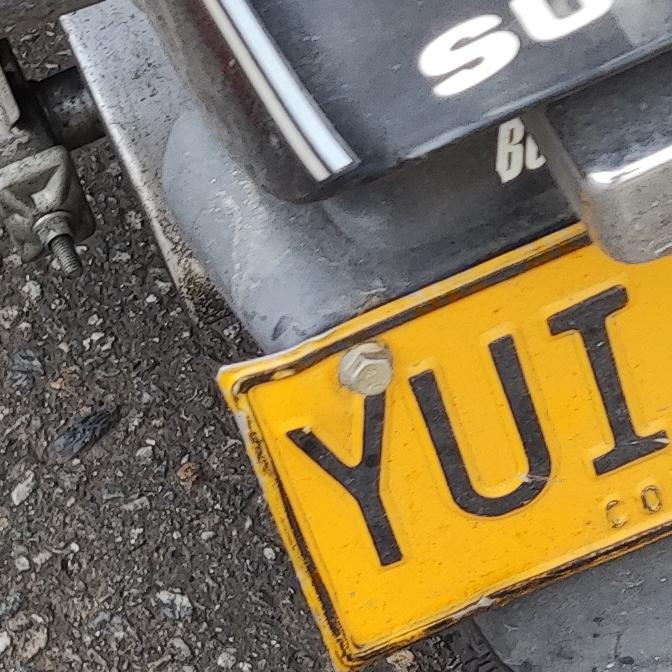plates: (222, 187, 672, 666)
